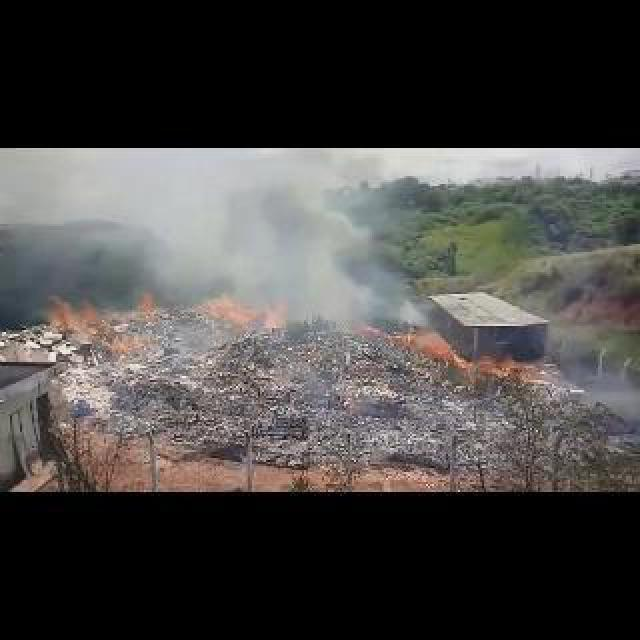fire: (398, 330, 516, 380), (206, 294, 282, 328), (46, 292, 98, 326), (44, 332, 84, 354), (126, 292, 154, 312)
smoke: (153, 157, 389, 330), (570, 336, 638, 428)
